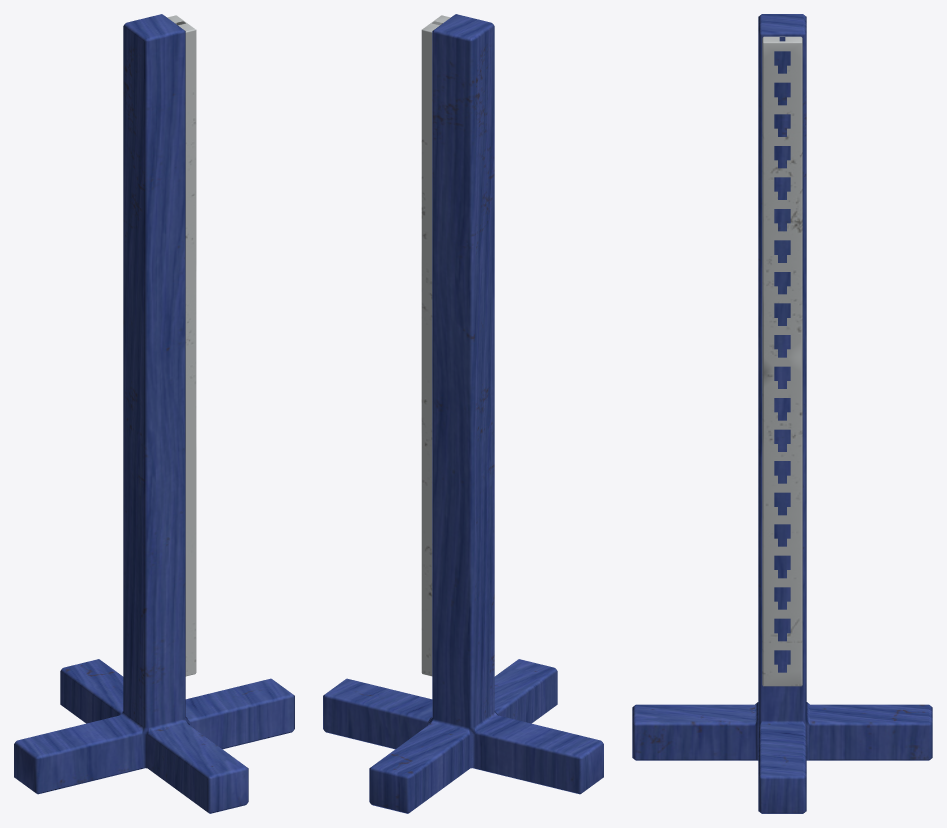
File: 09_HalfBarrier2.glb
3 views of the same model, side by side, from view 1: azimuth 30°, elevation 25°; view 2: azimuth 150°, elevation 25°; view 3: azimuth 270°, elevation 25° (orthographic).
Visible parts, largest first — view 1: HalfBarrier2; view 2: HalfBarrier2; view 3: HalfBarrier2.
Boxes of the visible parts, x1,y1,x2,y2 form: HalfBarrier2: (14, 14, 294, 813); HalfBarrier2: (323, 14, 603, 813); HalfBarrier2: (632, 14, 932, 813).
Size of the model in its own units: 0.673 by 1.8 by 0.673.
1 material, 1 textured.
